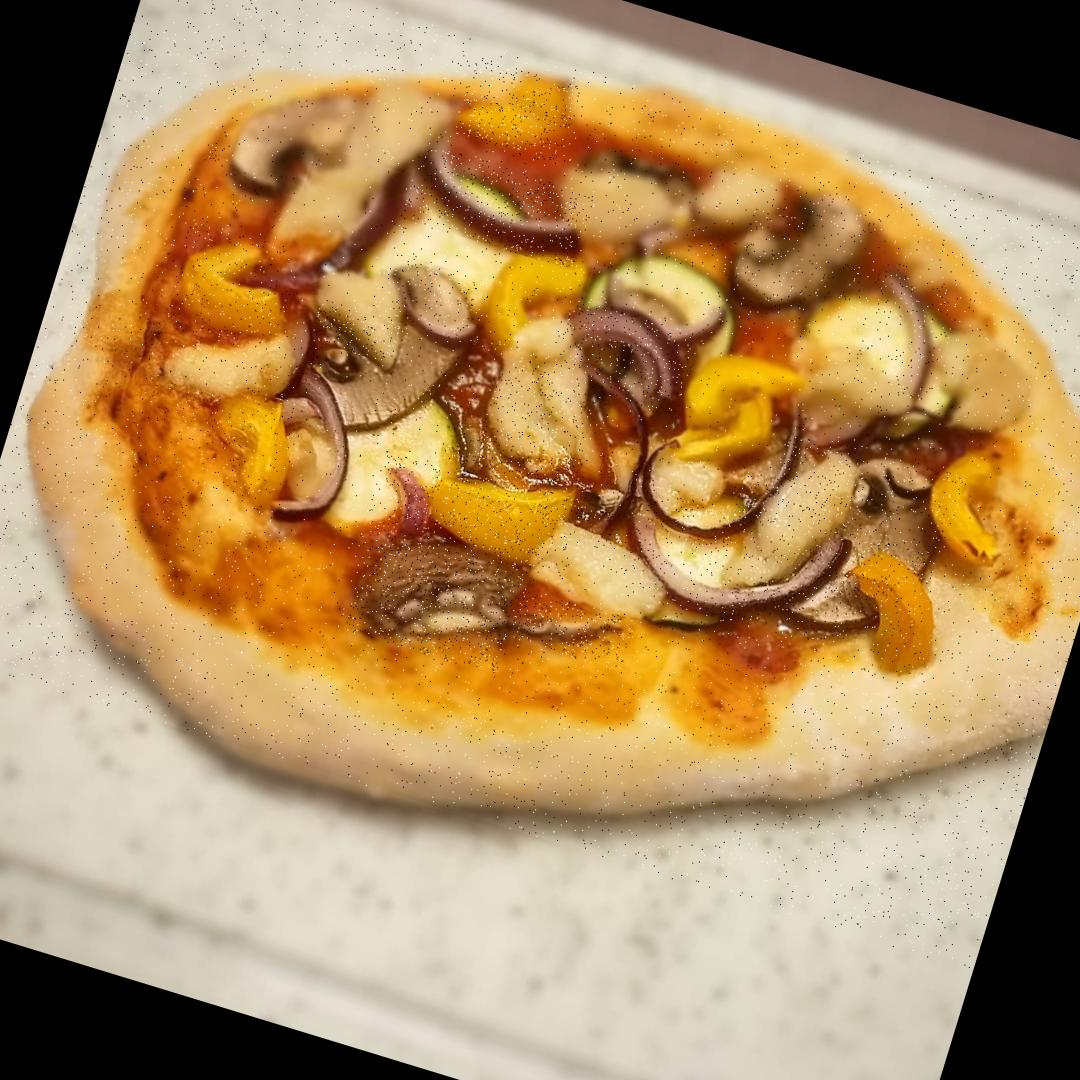Mushroom: (715, 428, 880, 614), (344, 522, 529, 677), (470, 312, 616, 499), (726, 176, 883, 340), (226, 65, 375, 215), (310, 258, 420, 366)
Onion: (610, 482, 856, 653), (794, 443, 966, 658), (401, 144, 597, 272), (276, 146, 408, 312), (265, 366, 379, 553), (842, 270, 963, 430), (548, 298, 702, 417), (492, 584, 636, 673), (376, 256, 495, 346), (364, 452, 444, 544)
Peppers: (822, 538, 968, 696), (416, 446, 590, 578), (668, 336, 808, 478), (907, 436, 1032, 590), (166, 222, 301, 352), (472, 241, 594, 378), (189, 378, 313, 510), (455, 57, 583, 166)
Pizza: (0, 0, 1080, 972)
